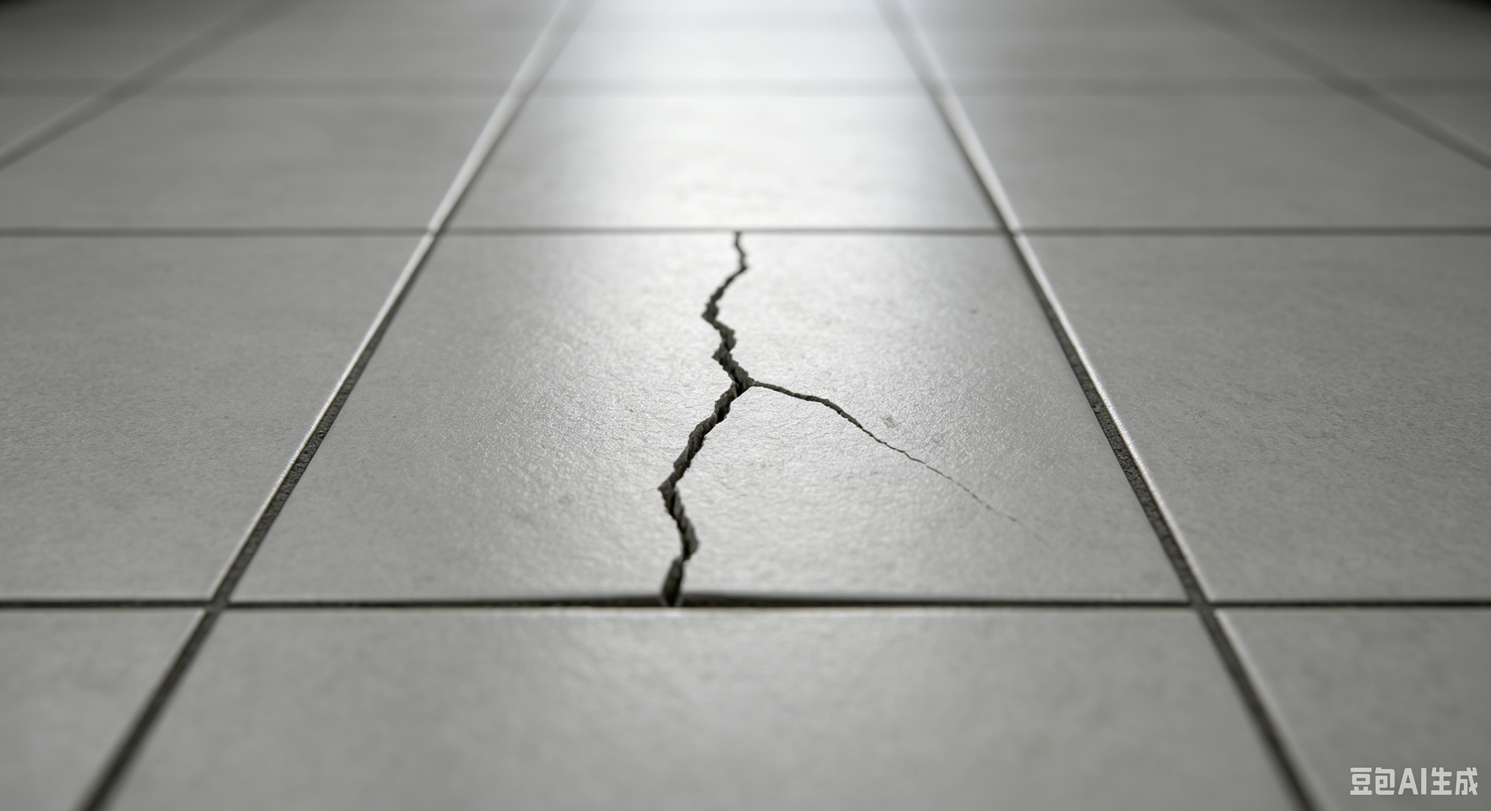floor_defect: (656, 228, 748, 605), (852, 422, 1008, 526), (751, 361, 860, 438)
